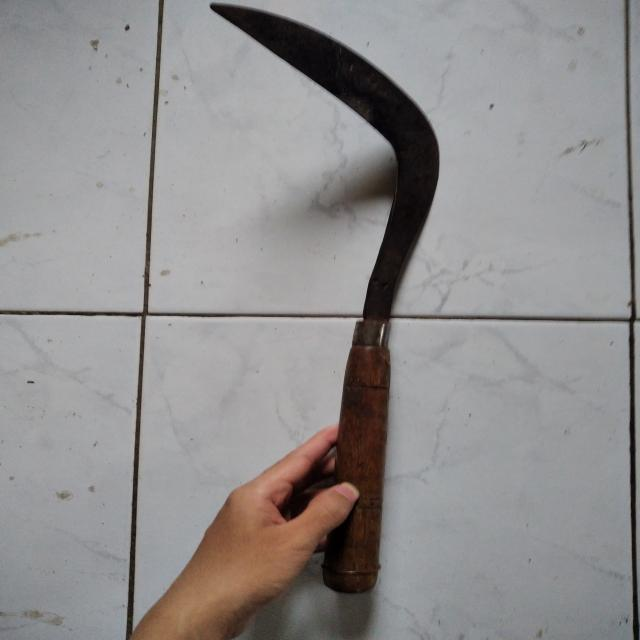Celurit: (214, 3, 444, 594)
